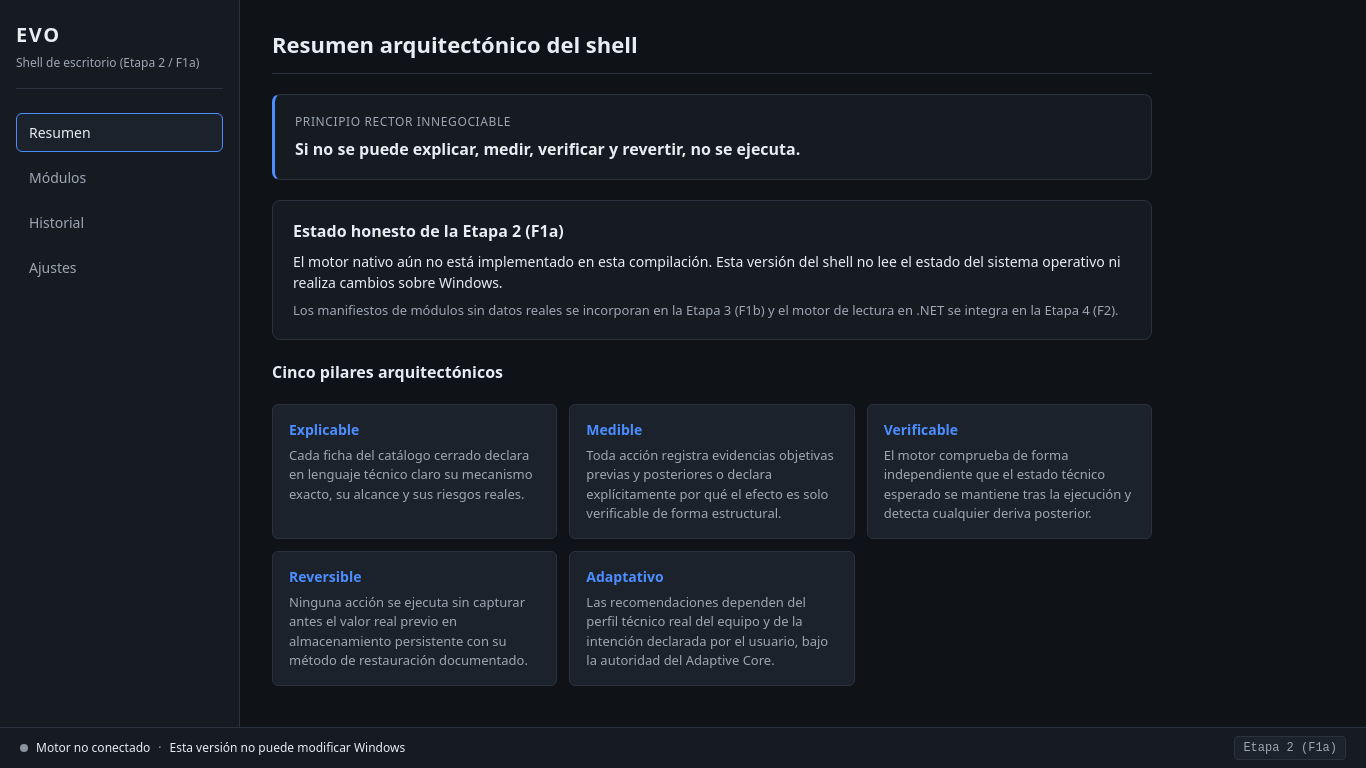
Test: EVO Desktop Shell (Etapa 2 / F1a) › navega por las 3 vistas reales sin botones de optimización ni unidades MB, GB o %
The width and height of the screenshot is (1366, 768).
Click the link "Historial" at (57, 222), box [29,213,84,232]
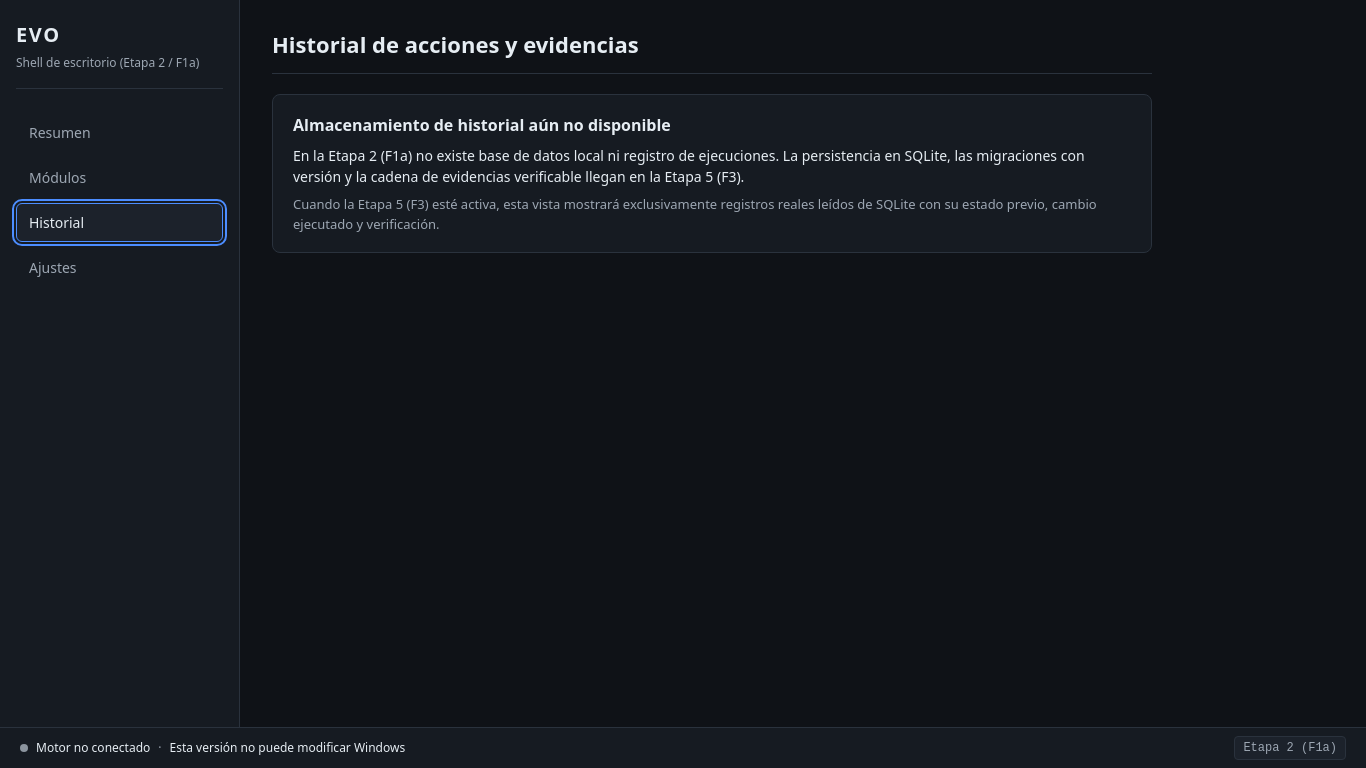
Expected: the heading "Historial de acciones y evidencias" is shown, [272,29,639,59]
Expected: the text "llegan en la Etapa 5 (F3)" is shown, [293,146,1084,186]
Click the link "Ajustes" at (53, 268), box [29,258,77,277]
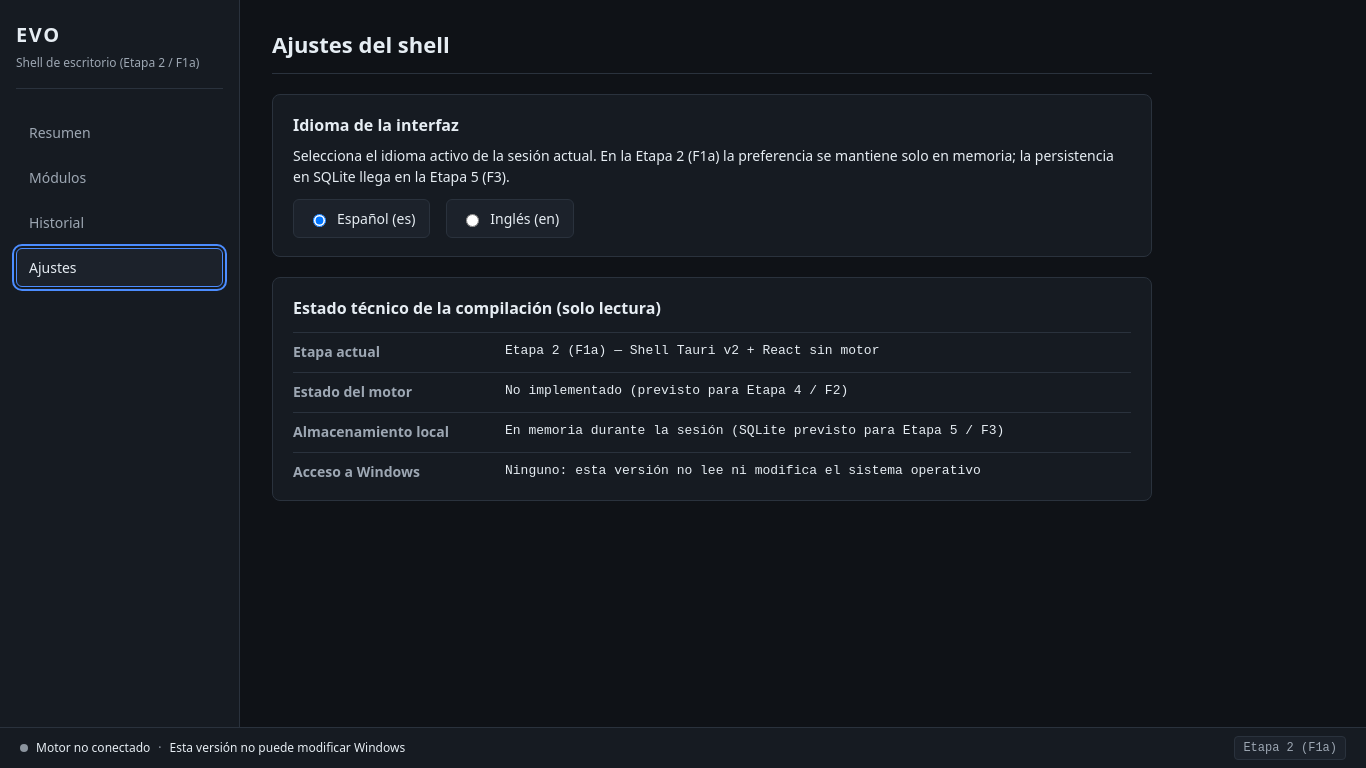
Expected: the heading "Ajustes del shell" is shown, [272,29,450,59]
